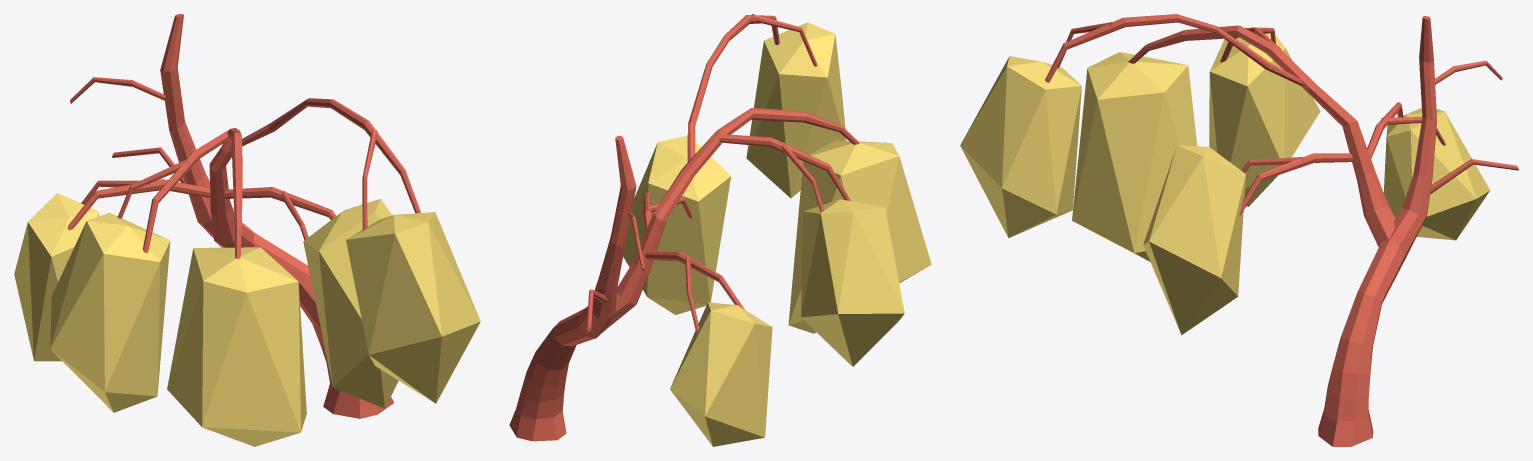
Rendered from Tree8_autumn.FBX.
3 views of the same model, side by side, from view 1: azimuth 30°, elevation 25°; view 2: azimuth 150°, elevation 25°; view 3: azimuth 270°, elevation 25° (orthographic). The views are drawn at different scales.
Parts seen in each view (by area): view 1: tree6.003; view 2: tree6.003; view 3: tree6.003.
Part boxes in pixels (<box>): tree6.003: <box>14,14,480,446</box>; tree6.003: <box>509,14,931,446</box>; tree6.003: <box>960,14,1518,446</box>.
Size of the model in its own units: 4.57 by 4.52 by 6.25.
